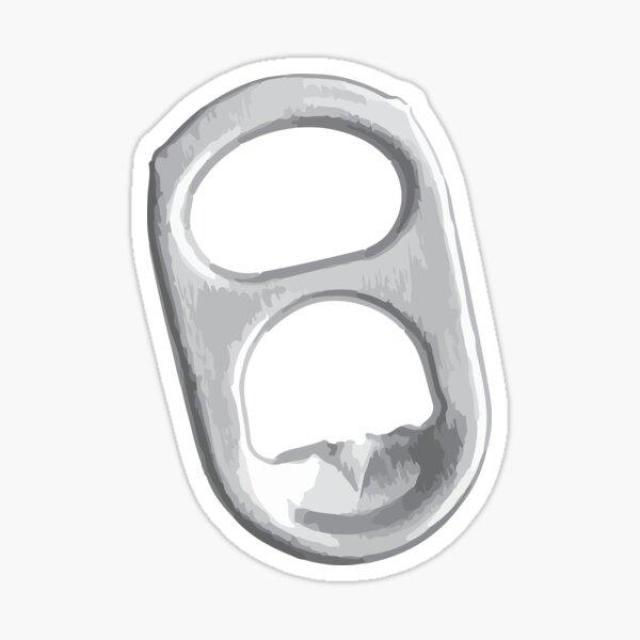pop tab: (123, 52, 520, 590)
